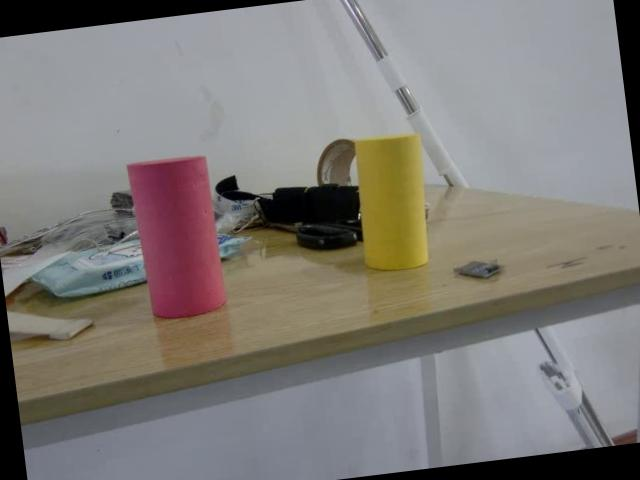red_cylinder: (121, 149, 231, 324)
yellow_cylinder: (347, 130, 438, 278)
